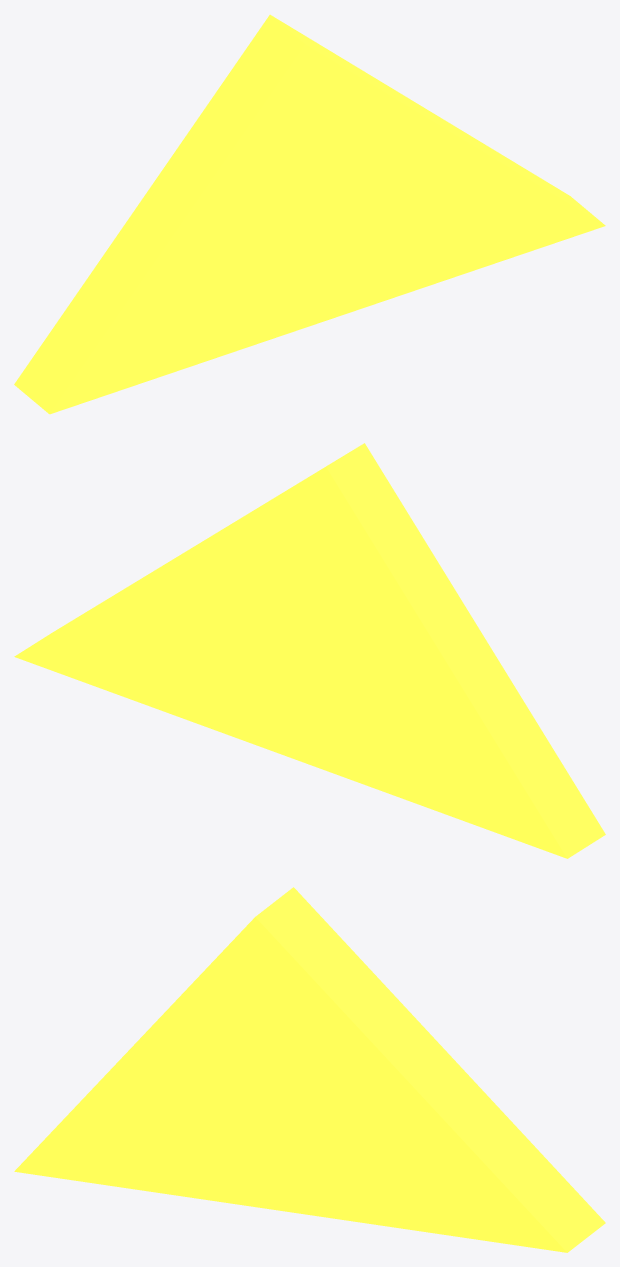
File: arrow_02_selang.fbx
3 renders of one model, top to bottom at view 1: azimuth 30°, elevation 25°; view 2: azimuth 150°, elevation 25°; view 3: azimuth 330°, elevation 25°, orthographic.
Parts seen in each view (by area): view 1: Cube.030; view 2: Cube.030; view 3: Cube.030.
Boxes of the visible parts, x1,y1,x2,y2 form: Cube.030: (14,14,605,414); Cube.030: (14,443,605,858); Cube.030: (14,887,605,1252).
Bounding box in the file's own units: 5.81 × 3.22 × 0.8458.
